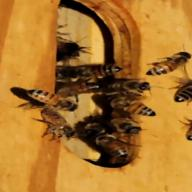Bee: (138, 46, 192, 79), (19, 85, 82, 113), (116, 94, 164, 119)
